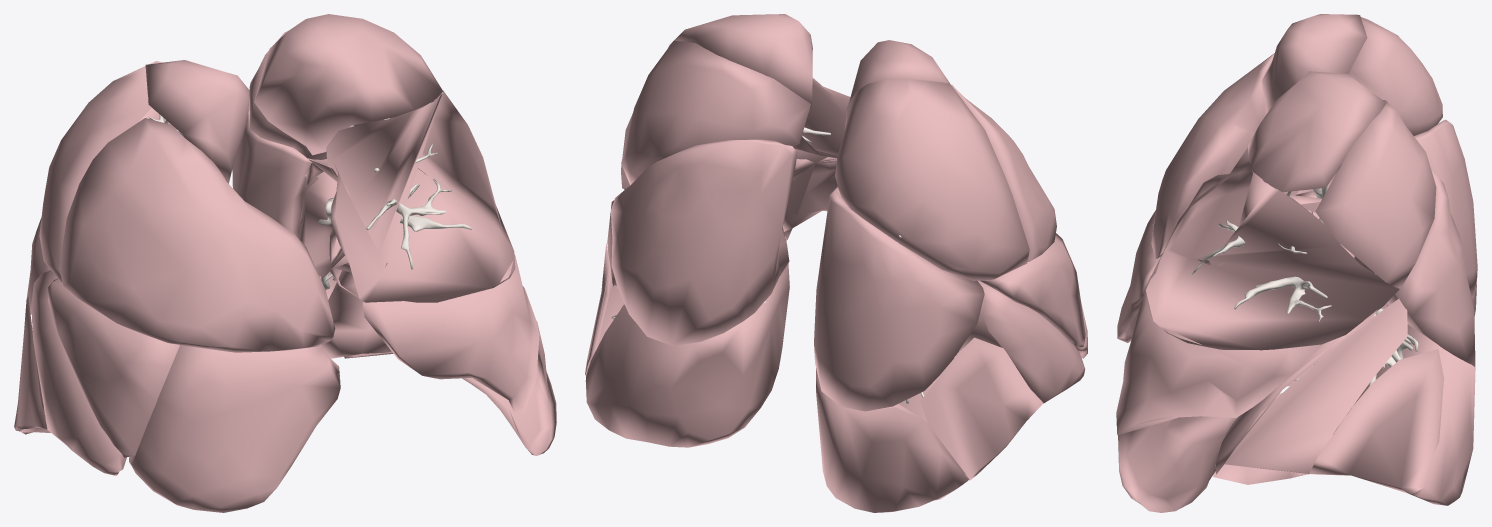
File: 3d-vh-m-lung-20.glb
3 views of the same model, side by side, from view 1: azimuth 30°, elevation 25°; view 2: azimuth 150°, elevation 25°; view 3: azimuth 270°, elevation 25° (orthographic). The views are drawn at different scales.
Parts seen in each view (by area): view 1: VH_M_right_anterior_bronchopulmonary_segment, VH_M_left_anterior_bronchopulmonary_segment, VH_M_right_medial_bronchopulmonary_segment, VH_M_left_apical_bronchopulmonary_segment, VH_M_left_lingula_superior_bronchopulmonary_segment, VH_M_right_lateral_bronchopulmonary_segment, VH_M_right_posterior_bronchopulmonary_segment, VH_M_right_apical_bronchopulmonary_segment, VH_M_right_anterior_basal_bronchopulmonary_segment, VH_M_left_superior_bronchopulmonary_segment, VH_M_left_lingula_inferior_bronchopulmonary_segment, VH_M_left_medial_basal_bronchopulmonary_segment (+5 smaller); view 2: VH_M_left_superior_bronchopulmonary_segment, VH_M_right_posterior_bronchopulmonary_segment, VH_M_right_superior_bronchopulmonary_segment, VH_M_left_posetrior_basal_bronchopulmonary_segment, VH_M_left_posterior_bronchopulmonary_segment, VH_M_right_posterior_basal_bronchopulmonary_segment, VH_M_right_lateral_basal_bronchopulmonary_segment, VH_M_right_anterior_basal_bronchopulmonary_segment, VH_M_left_apical_bronchopulmonary_segment, VH_M_right_lateral_bronchopulmonary_segment, VH_M_right_anterior_bronchopulmonary_segment, VH_M_left_anterior_bronchopulmonary_segment (+3 smaller); view 3: VH_M_left_anterior_bronchopulmonary_segment, VH_M_left_lingula_superior_bronchopulmonary_segment, VH_M_left_posterior_bronchopulmonary_segment, VH_M_left_anterior_basal_bronchopulmonary_segment, VH_M_left_lateral_basal_bronchopulmonary_segment, VH_M_left_apical_bronchopulmonary_segment, VH_M_right_anterior_bronchopulmonary_segment, VH_M_left_lingula_inferior_bronchopulmonary_segment, VH_M_left_superior_bronchopulmonary_segment, VH_M_left_posetrior_basal_bronchopulmonary_segment, VH_M_right_posterior_bronchopulmonary_segment, VH_M_right_apical_bronchopulmonary_segment (+4 smaller).
Part boxes in pixels (bbox=[...]): VH_M_right_anterior_bronchopulmonary_segment: bbox=[59, 118, 335, 352]; VH_M_left_anterior_bronchopulmonary_segment: bbox=[326, 90, 515, 302]; VH_M_right_medial_bronchopulmonary_segment: bbox=[129, 345, 340, 512]; VH_M_left_apical_bronchopulmonary_segment: bbox=[254, 14, 443, 155]; VH_M_left_lingula_superior_bronchopulmonary_segment: bbox=[362, 168, 539, 412]; VH_M_right_lateral_bronchopulmonary_segment: bbox=[48, 278, 179, 457]; VH_M_right_posterior_bronchopulmonary_segment: bbox=[39, 61, 176, 282]; VH_M_right_apical_bronchopulmonary_segment: bbox=[145, 60, 249, 183]; VH_M_right_anterior_basal_bronchopulmonary_segment: bbox=[31, 270, 126, 475]; VH_M_left_superior_bronchopulmonary_segment: bbox=[232, 95, 327, 239]; VH_M_left_lingula_inferior_bronchopulmonary_segment: bbox=[330, 256, 556, 455]; VH_M_left_medial_basal_bronchopulmonary_segment: bbox=[320, 270, 391, 358]; VH_M_left_superior_bronchopulmonary_segment: bbox=[610, 139, 797, 345]; VH_M_right_posterior_bronchopulmonary_segment: bbox=[835, 79, 1029, 280]; VH_M_right_superior_bronchopulmonary_segment: bbox=[814, 186, 984, 411]; VH_M_left_posetrior_basal_bronchopulmonary_segment: bbox=[585, 263, 789, 447]; VH_M_left_posterior_bronchopulmonary_segment: bbox=[621, 40, 810, 185]; VH_M_right_posterior_basal_bronchopulmonary_segment: bbox=[816, 368, 969, 512]; VH_M_right_lateral_basal_bronchopulmonary_segment: bbox=[899, 337, 1043, 480]; VH_M_right_anterior_basal_bronchopulmonary_segment: bbox=[956, 280, 1085, 403]; VH_M_left_apical_bronchopulmonary_segment: bbox=[668, 14, 812, 111]; VH_M_right_lateral_bronchopulmonary_segment: bbox=[980, 233, 1085, 346]; VH_M_right_anterior_bronchopulmonary_segment: bbox=[951, 84, 1056, 261]; VH_M_left_anterior_bronchopulmonary_segment: bbox=[621, 78, 850, 188]; VH_M_left_anterior_bronchopulmonary_segment: bbox=[1146, 147, 1399, 350]; VH_M_left_lingula_superior_bronchopulmonary_segment: bbox=[1116, 256, 1385, 435]; VH_M_left_posterior_bronchopulmonary_segment: bbox=[1315, 100, 1436, 288]; VH_M_left_anterior_basal_bronchopulmonary_segment: bbox=[1213, 298, 1407, 484]; VH_M_left_lateral_basal_bronchopulmonary_segment: bbox=[1309, 349, 1443, 494]; VH_M_left_apical_bronchopulmonary_segment: bbox=[1248, 71, 1386, 192]; VH_M_right_anterior_bronchopulmonary_segment: bbox=[1151, 53, 1274, 258]; VH_M_left_lingula_inferior_bronchopulmonary_segment: bbox=[1118, 416, 1237, 512]; VH_M_left_superior_bronchopulmonary_segment: bbox=[1354, 169, 1475, 366]; VH_M_left_posetrior_basal_bronchopulmonary_segment: bbox=[1347, 324, 1475, 505]; VH_M_right_posterior_bronchopulmonary_segment: bbox=[1349, 17, 1442, 135]; VH_M_right_apical_bronchopulmonary_segment: bbox=[1262, 14, 1367, 113].
Bounding box in the file's own units: 0.2592 × 0.2296 × 0.1898.
